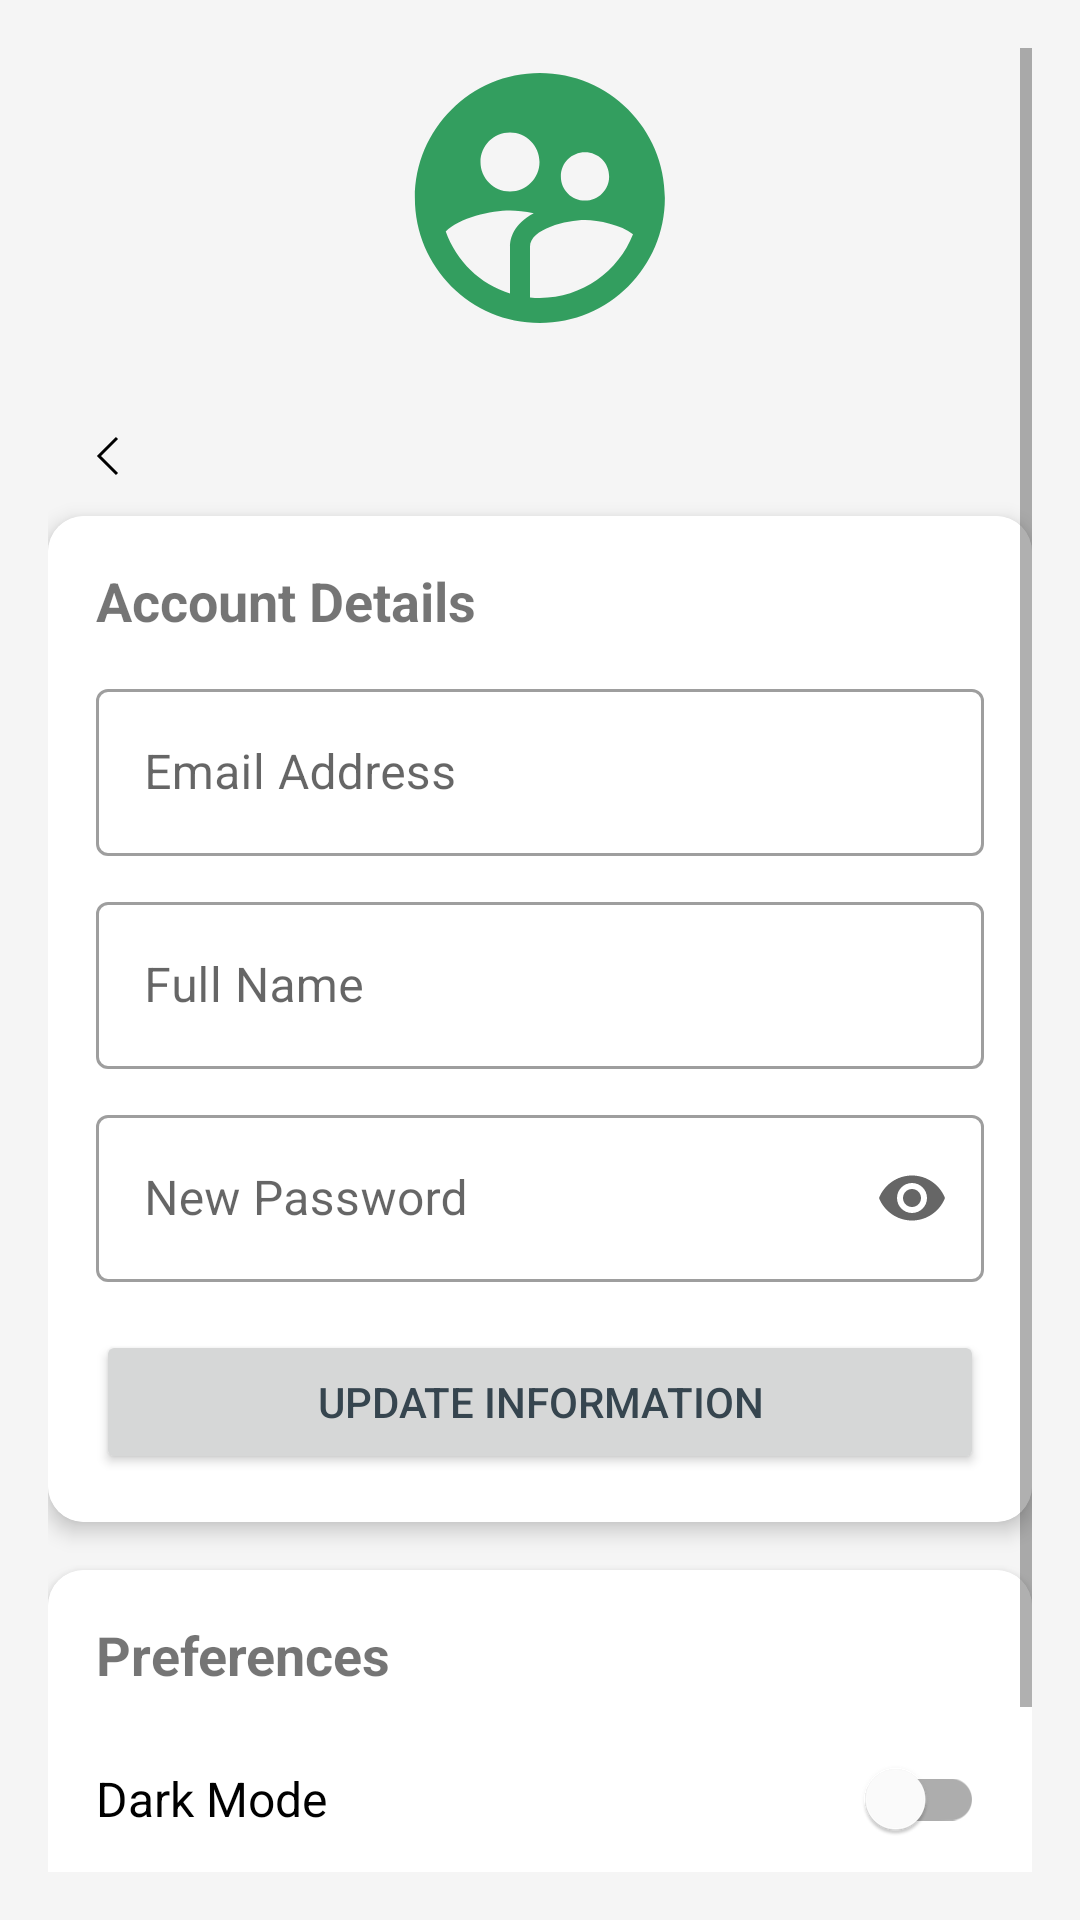

Locate icon controls on the screen. Image size 1080 × 1920, boxes as region(x1, y1, x2, y2).
arrow back: region(97, 437, 118, 475)
user box: region(414, 73, 665, 323)
